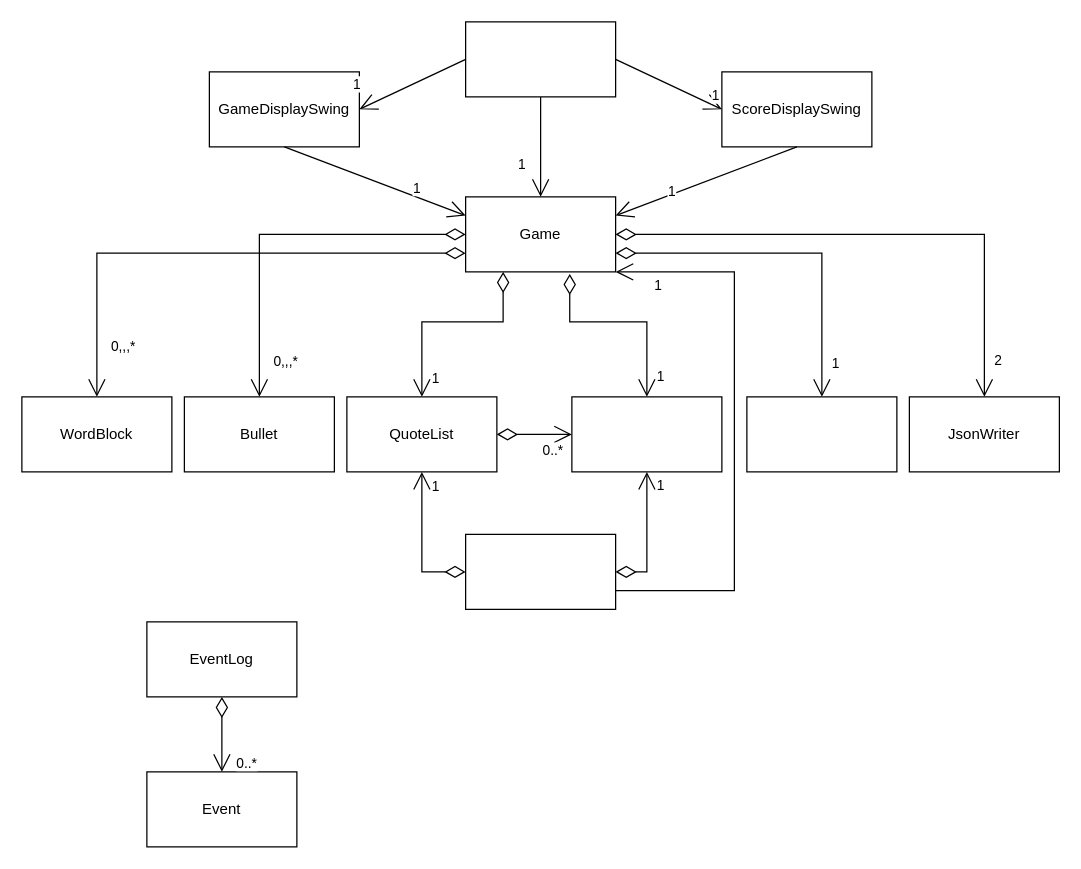
Some shapes in this 1081 by 869 pixel diagram are drawn without their labels. The centre of each missing label's shape, as x and y in pixels:
"Game Primary" belongs at (x=540, y=59).
"JsonReader" belongs at (x=821, y=434).
"Quote" belongs at (x=646, y=434).
"QuoteDisplaySwing" belongs at (x=540, y=571).
